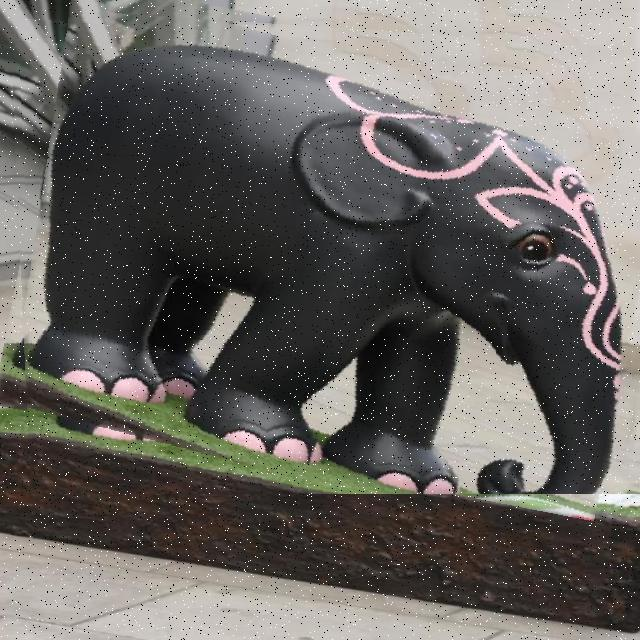elephant: (9, 6, 640, 494)
